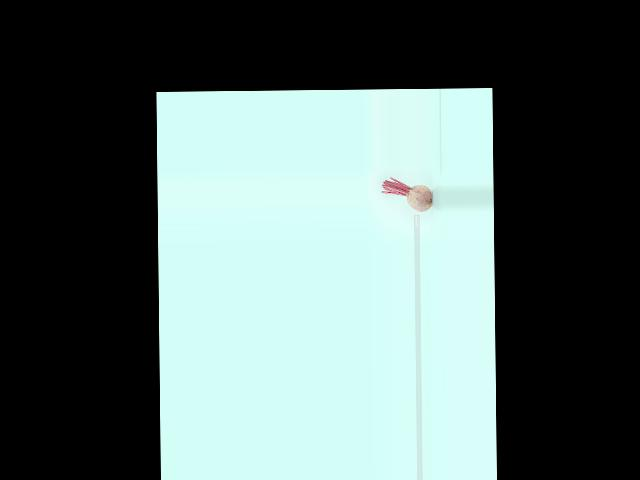beet: (381, 177, 432, 212)
